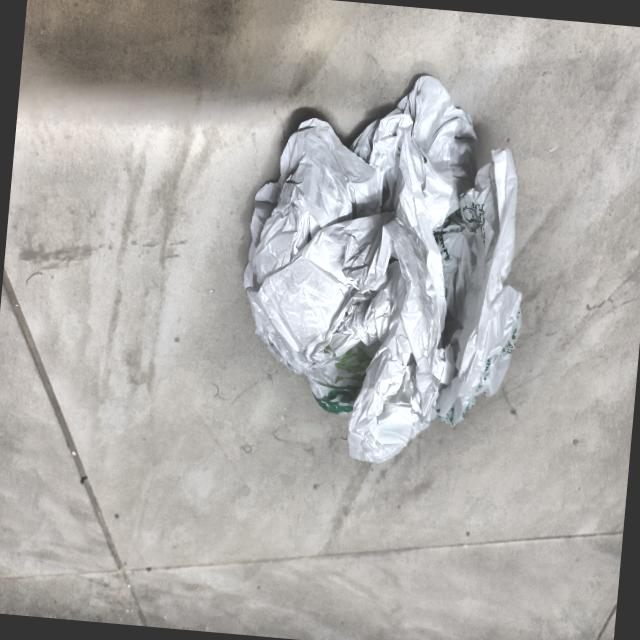plastic bag: (214, 49, 556, 486)
